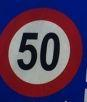Gioi han toc do: (0, 7, 83, 98)
